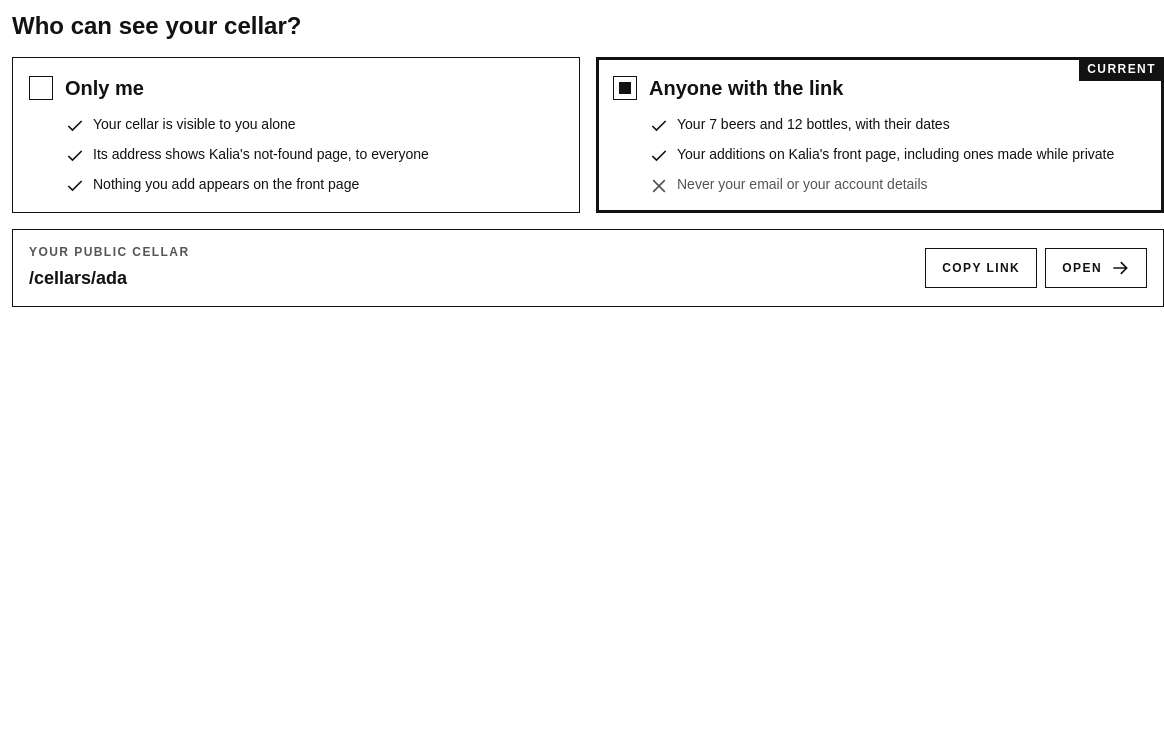
VisibilityControl › reports a copy the browser refused as a failure
What coordinates should you click on to do the following:
click the button "Copy link"
I would click on:
 (981, 268)
Its box is [925,248,1037,288].
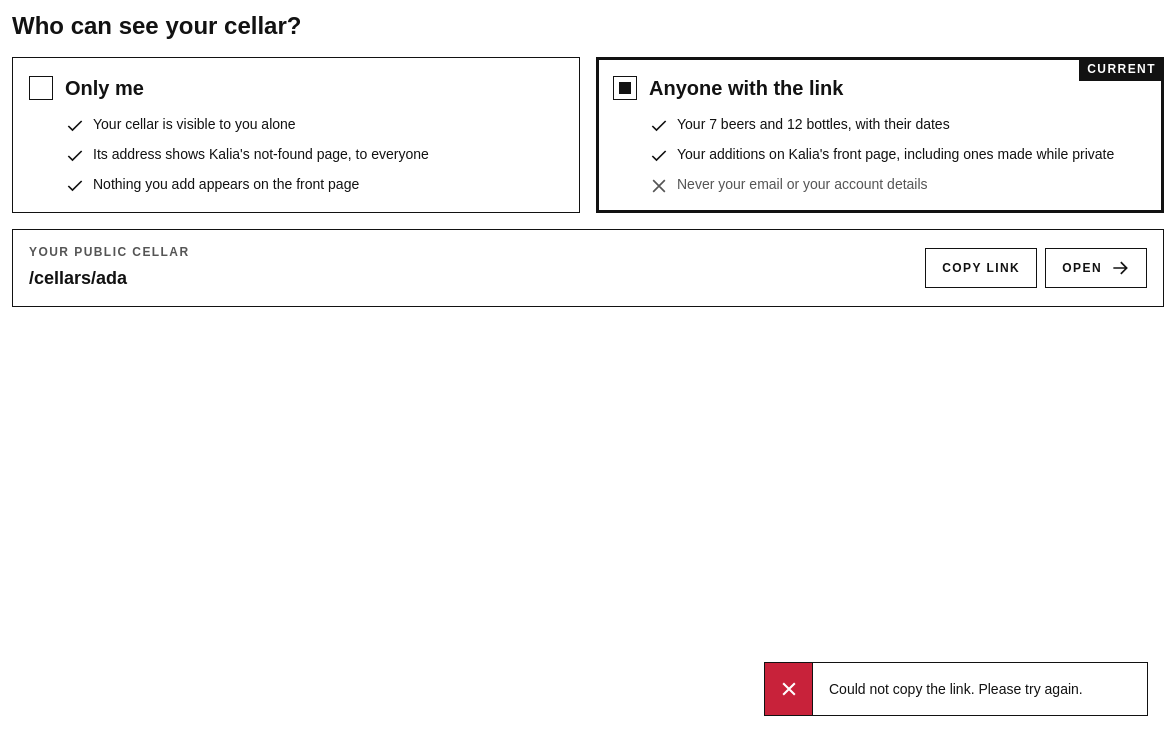
Check: the text "Could not copy the link. Please try again." is shown, box [829,681,1083,697]
